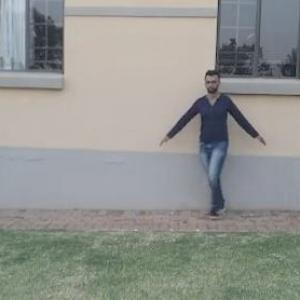land: (166, 71, 269, 228)
